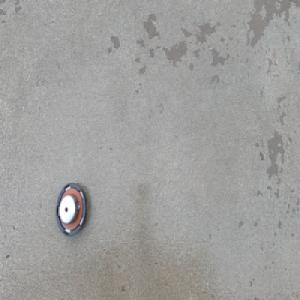FuelCap: (55, 180, 87, 240)
